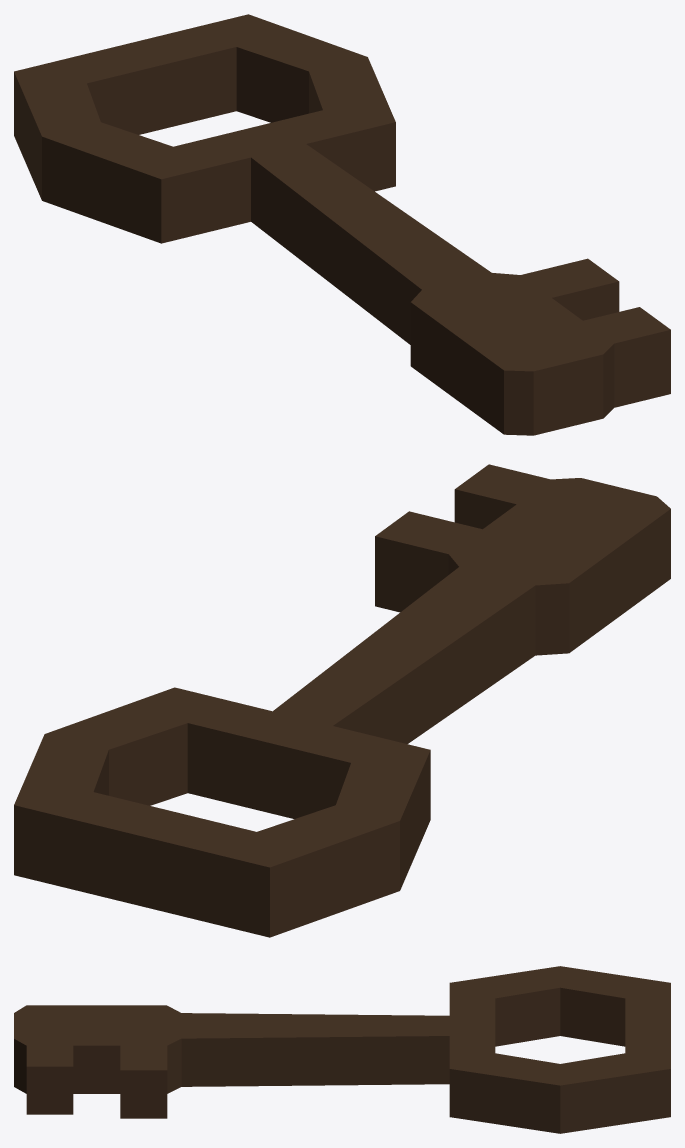
The model's file is key_rusty.gltf.
3 views of the same model, one above another, from view 1: azimuth 30°, elevation 25°; view 2: azimuth 150°, elevation 25°; view 3: azimuth 270°, elevation 25° (orthographic). The views are drawn at different scales.
Visible parts, largest first — view 1: Key_Rusty; view 2: Key_Rusty; view 3: Key_Rusty.
Boxes of the visible parts, x1,y1,x2,y2 form: Key_Rusty: (14,14,670,435); Key_Rusty: (14,464,670,937); Key_Rusty: (14,966,670,1133).
Size of the model in its own units: 0.1061 by 0.02 by 0.2466.
Materials: 1 (1 with a texture image).
